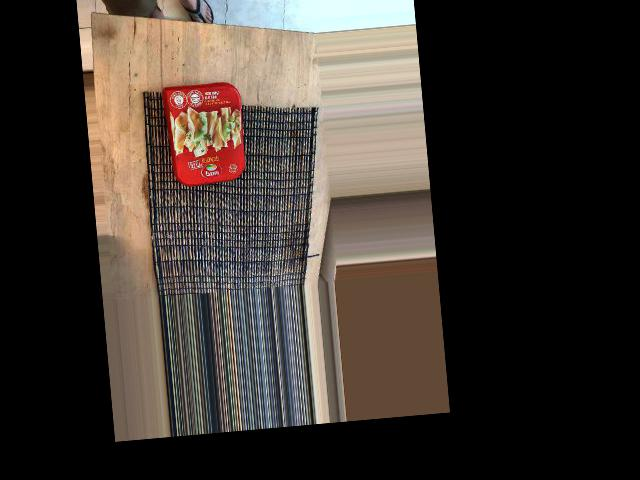cheese: (161, 71, 253, 191)
